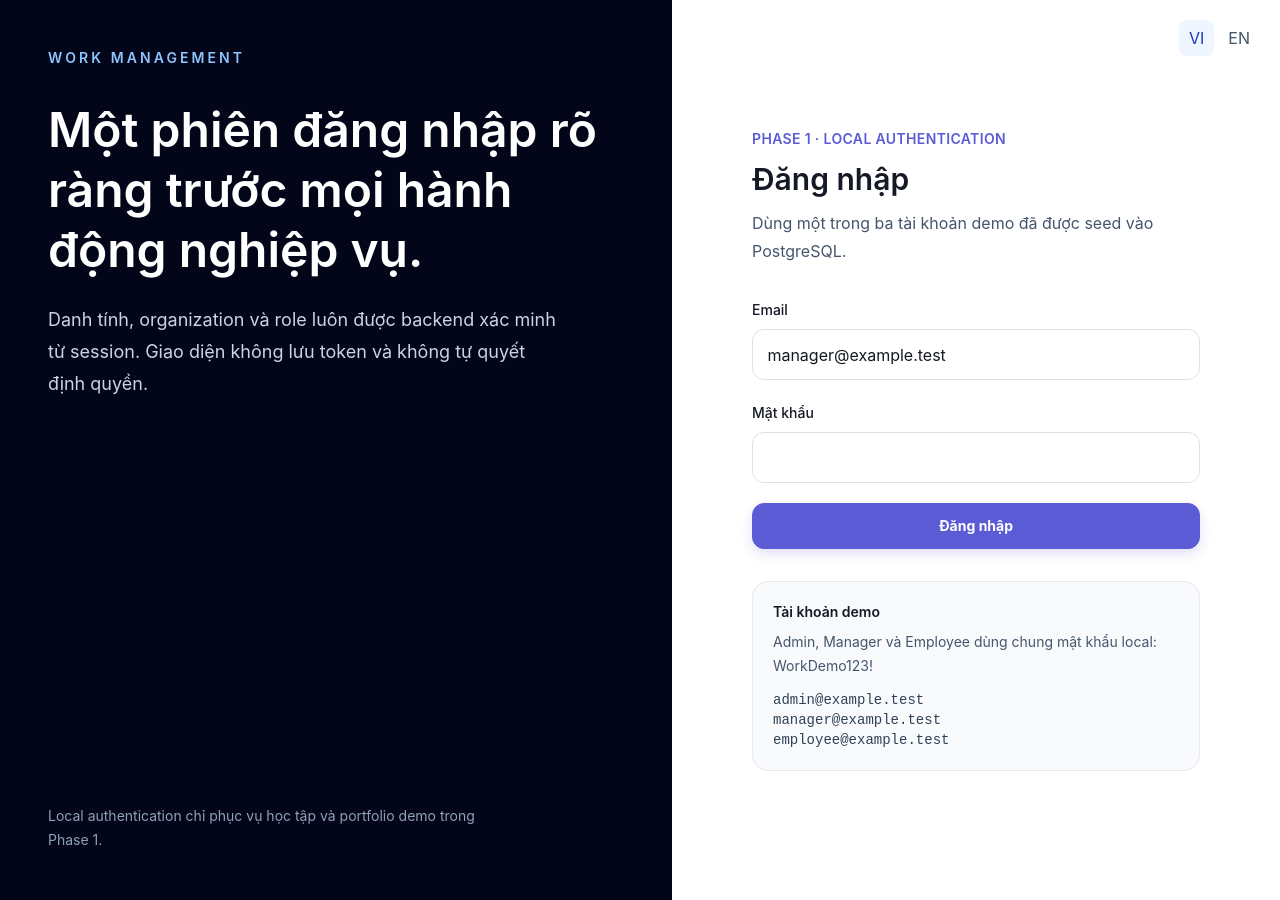
Test case: LoginPage › renders an anonymous session and validates fields before login
Replace the text in the field labelled "Email" with "invalid". click: (976, 354)
box: [752, 329, 1200, 380]
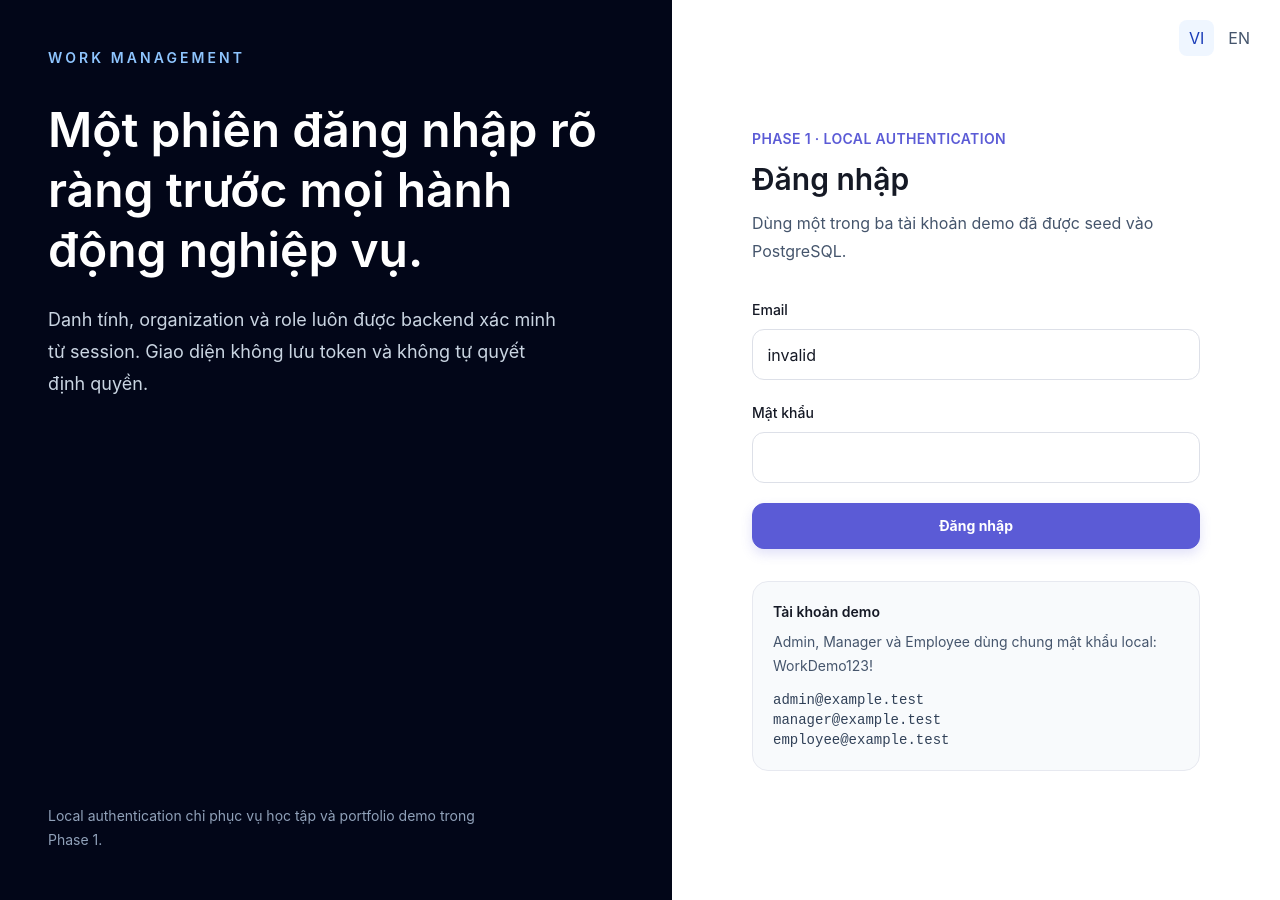
Click the button "Đăng nhập". click: (976, 526)
box: [752, 503, 1200, 549]
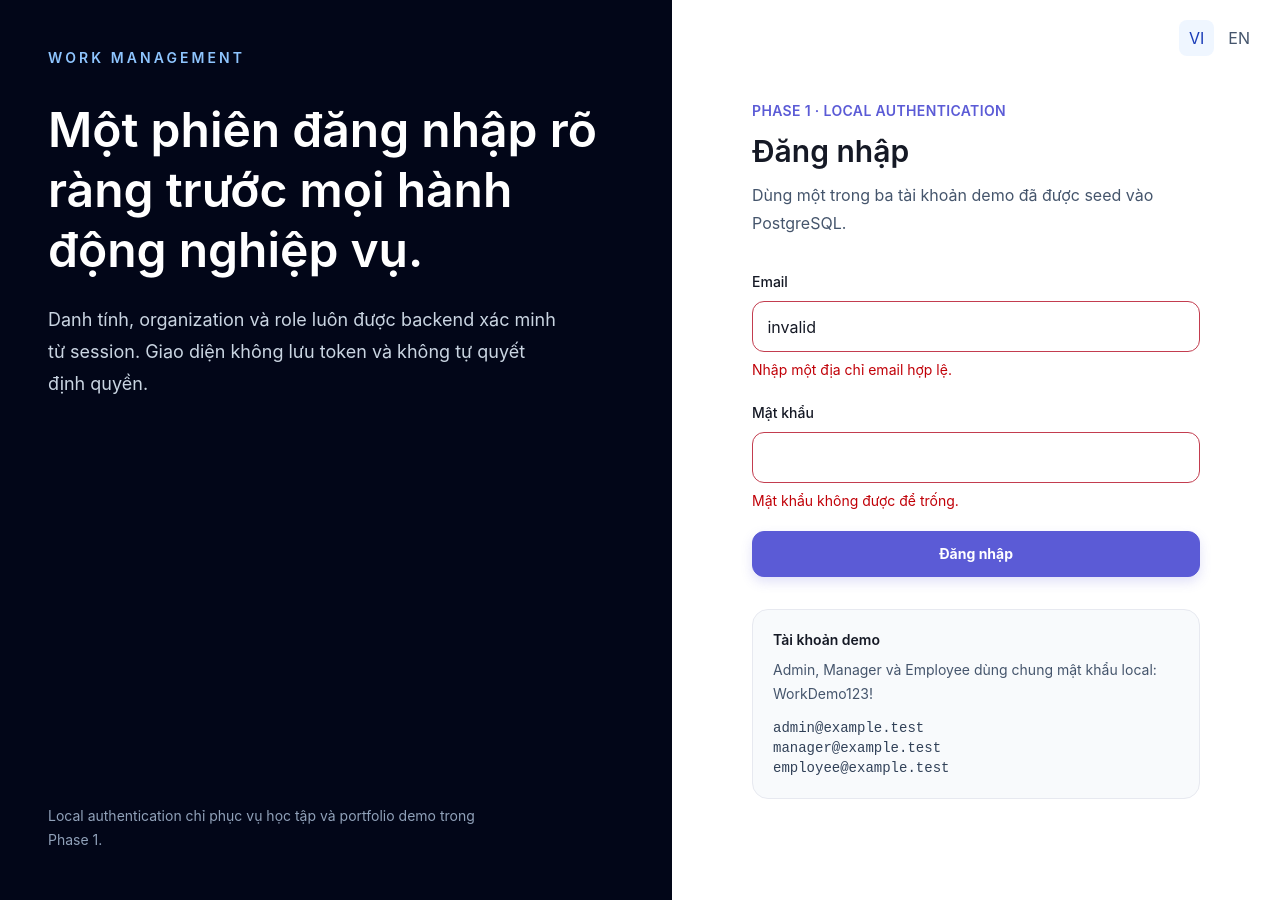
Result: the text "Nhập một địa chỉ email hợp lệ." is shown at [752, 361, 952, 378]
Result: the text "Mật khẩu không được để trống." is shown at [752, 492, 959, 509]
